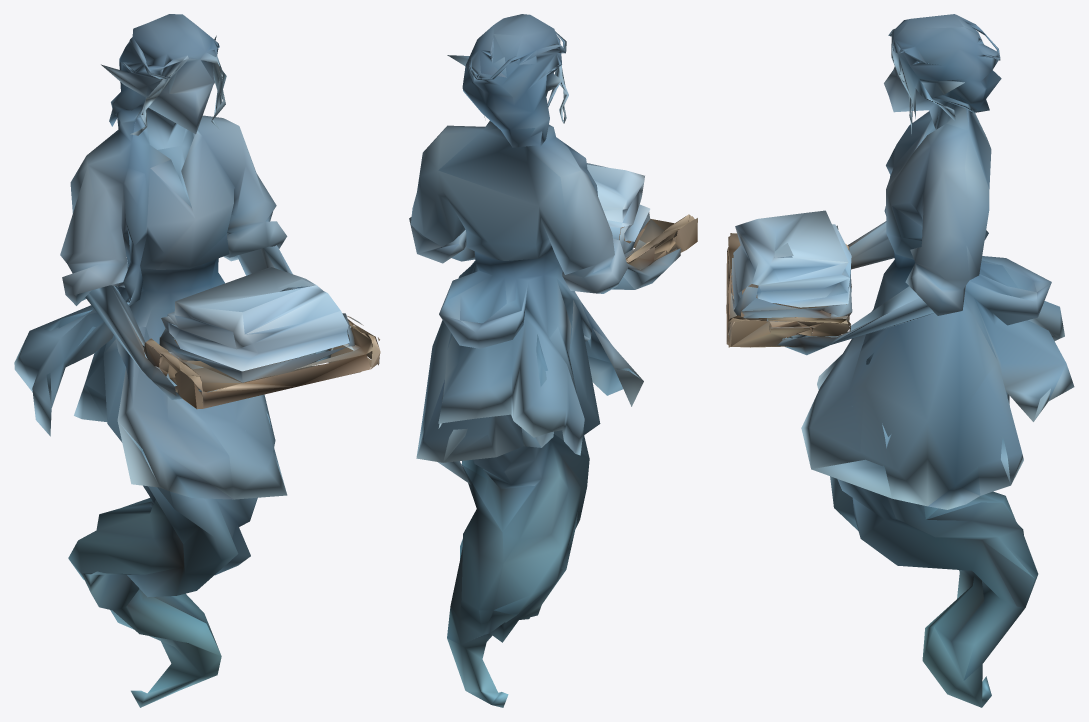
Rendered from ghost-laundress-far.glb.
The picture shows the model from 3 angles, left to right: view 1: azimuth 30°, elevation 25°; view 2: azimuth 150°, elevation 25°; view 3: azimuth 270°, elevation 25°; orthographic projection. The views are drawn at different scales.
Parts seen in each view (by area): view 1: body, item; view 2: body, item; view 3: body, item.
Boxes of the visible parts, left/top/right/bottom form: body: left=14, top=14, right=379, bottom=707; item: left=144, top=267, right=380, bottom=409; body: left=409, top=14, right=680, bottom=707; item: left=586, top=163, right=697, bottom=269; body: left=729, top=14, right=1074, bottom=707; item: left=726, top=210, right=851, bottom=347.
Size of the model in its own units: 0.6146 by 1.9 by 0.8767.
